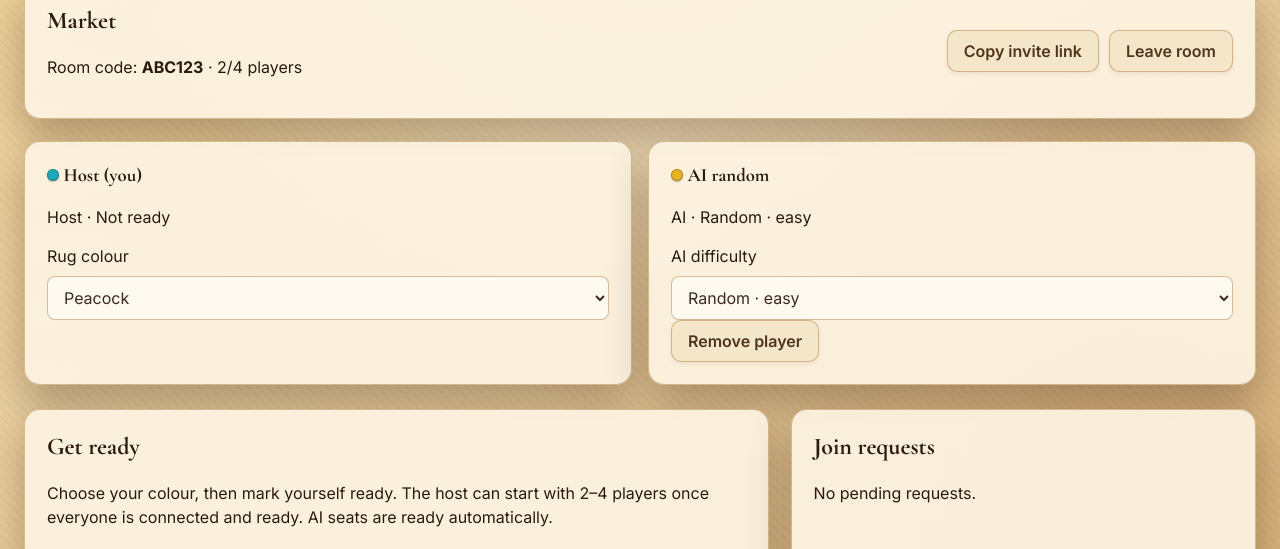
Scenario: online screens › lets the host add AI and edit its difficulty, but hides these controls from guests
Select "Search · hard" in the dropdown labelled "AI difficulty" at (952, 298), box [671, 276, 1233, 320]
(page scrolled)
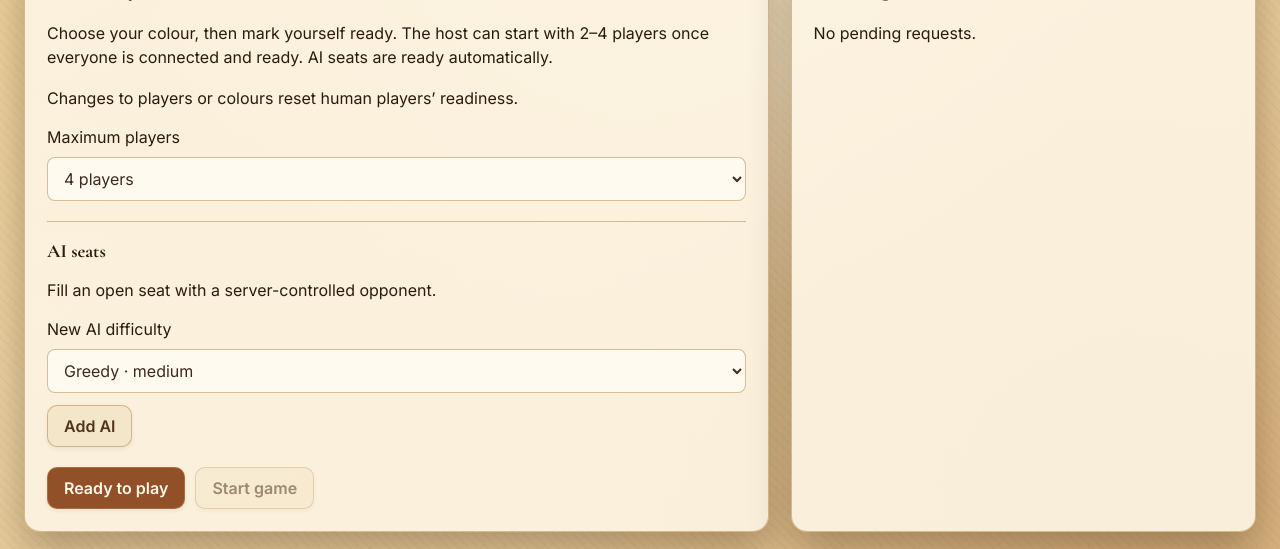
Click the button "Add AI" at (90, 426), box [47, 405, 132, 447]
(page scrolled)
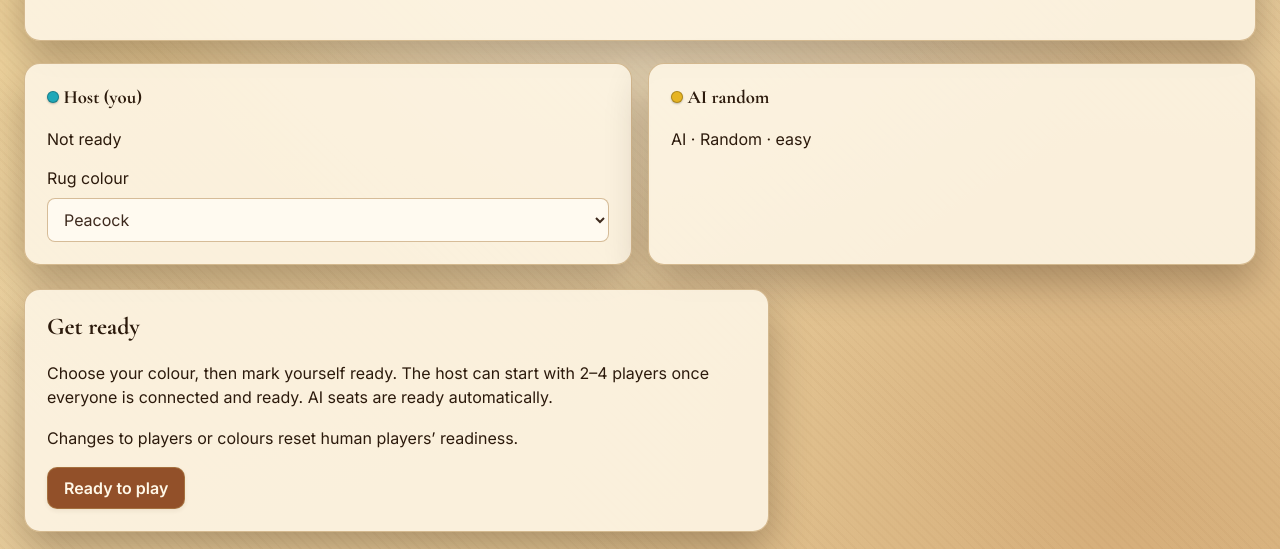
Expected: the button "Add AI" is gone
